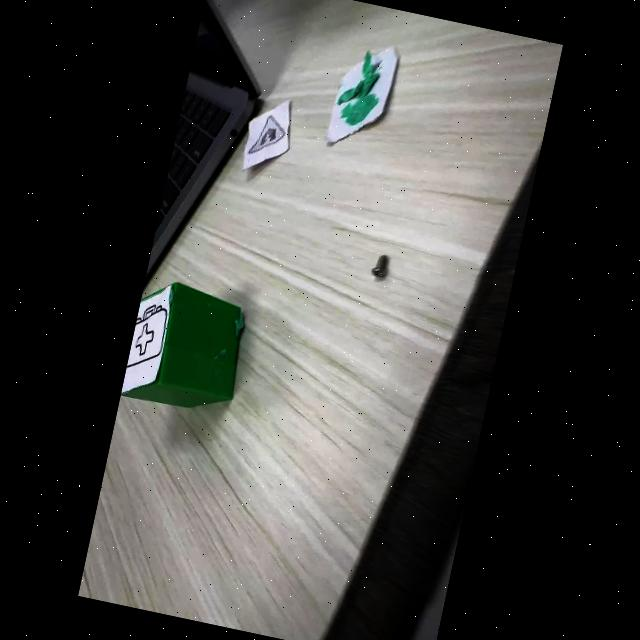Medkit: (126, 305, 167, 367)
